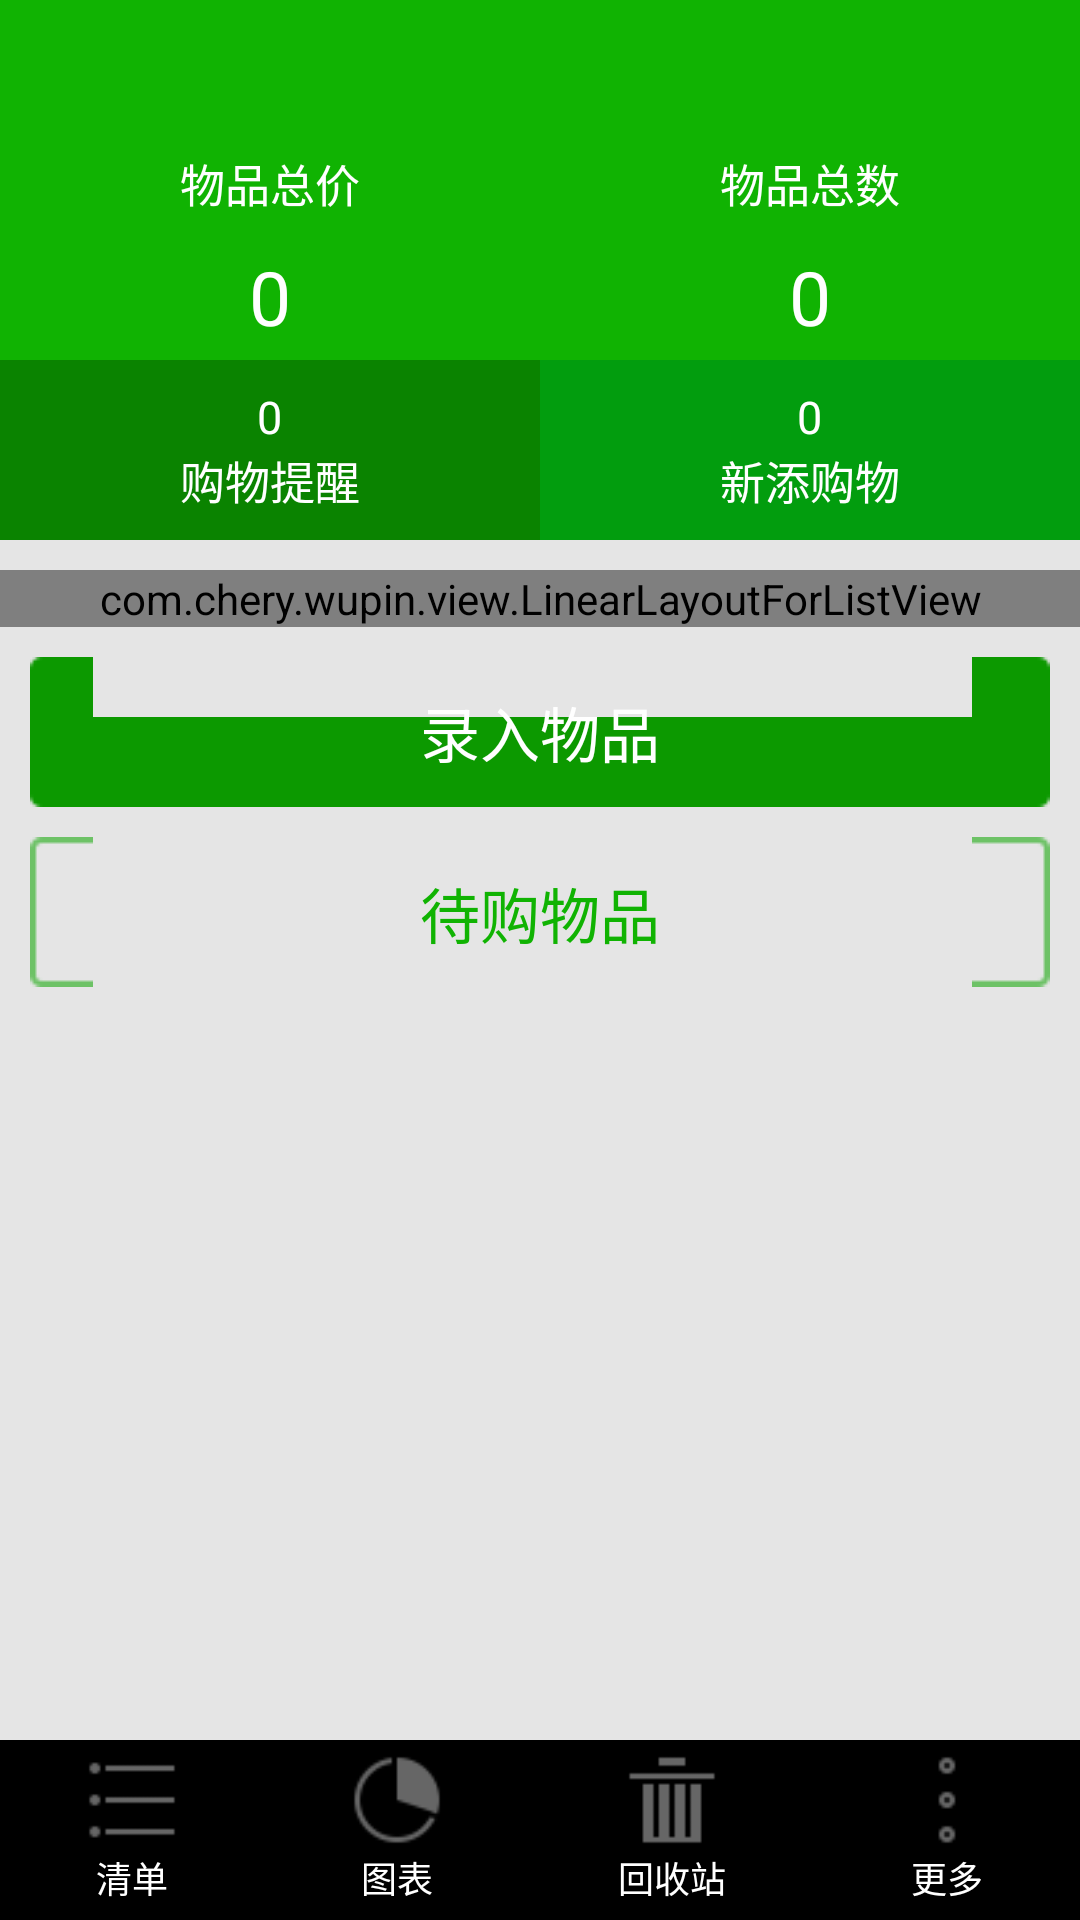

Locate icon controls on the screen. Image size 1080x1920, boxes as [left=x1, top=y1, right=x2, bottom=y2].
bottom census: [left=354, top=1757, right=440, bottom=1843]
bottom classify: [left=89, top=1762, right=175, bottom=1838]
bottom delete: [left=629, top=1757, right=715, bottom=1843]
